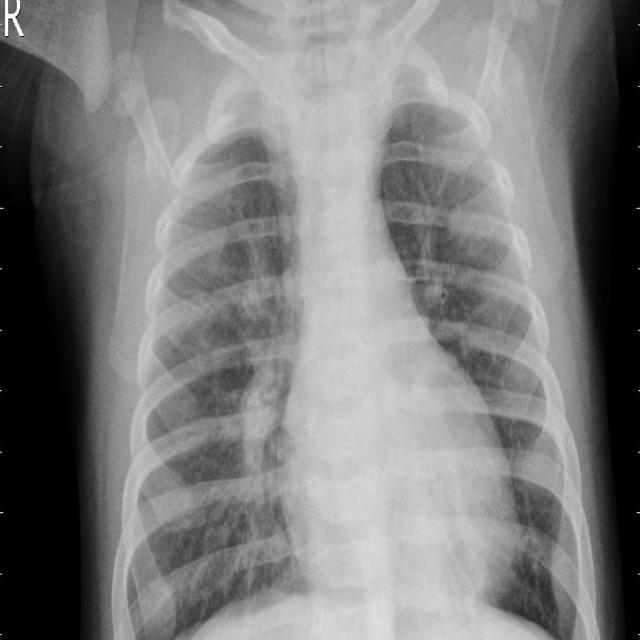low-pneumonia: (205, 259, 299, 575), (399, 155, 495, 353), (153, 122, 236, 342)
